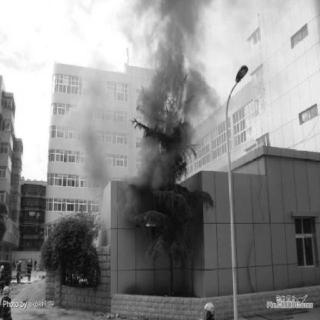Fire: (141, 220, 155, 228)
Smoke: (134, 138, 178, 202)
